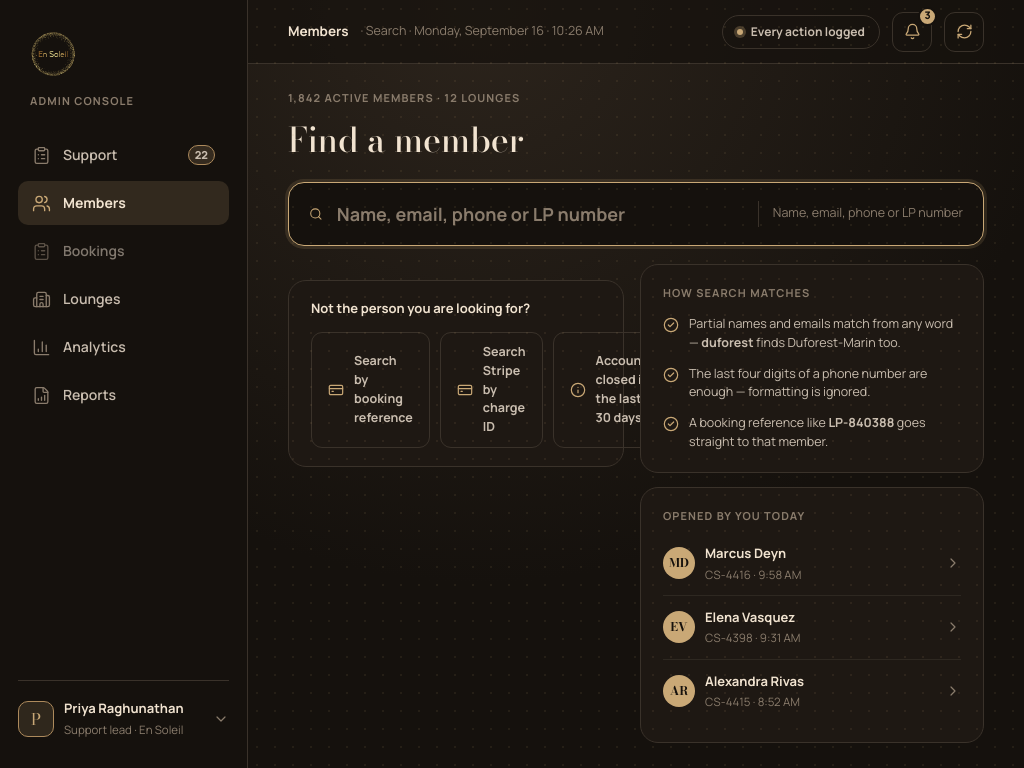
it: Member search (/admin/members) › finds members by a partial name and shows the match count
Type "duforest" into the search field labelled "Name, email, phone or LP number".
click(540, 214); type("duforest")  # box [337,200,744,228]
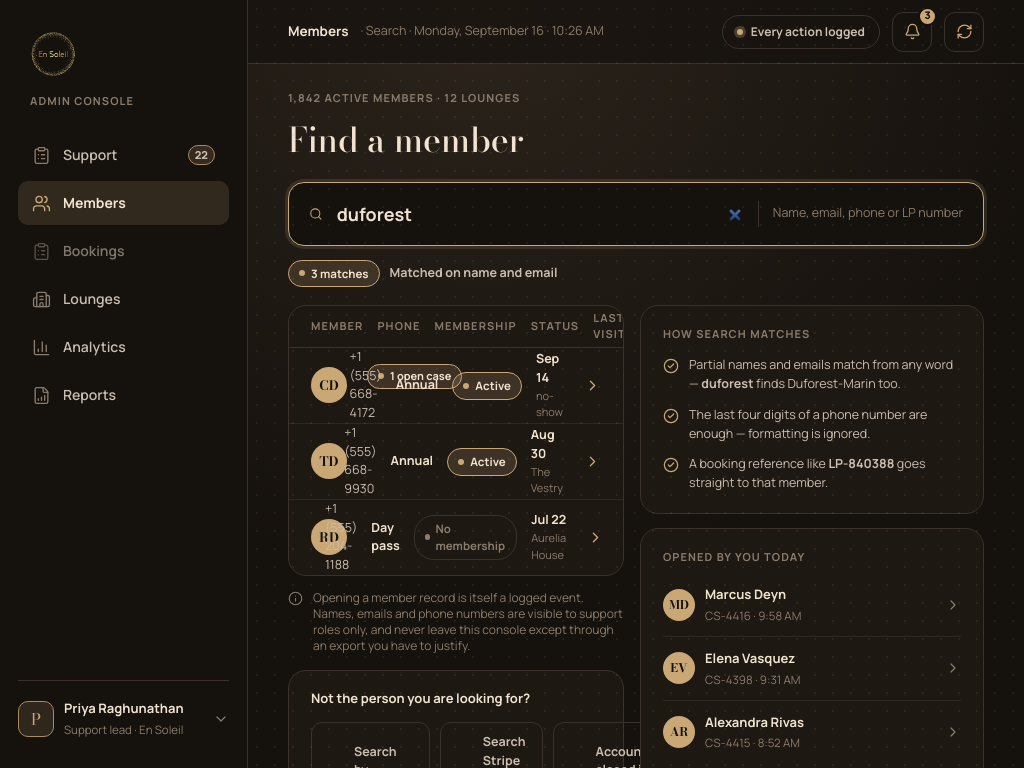
Expected: the text "3 matches" is shown, [288,260,380,287]
